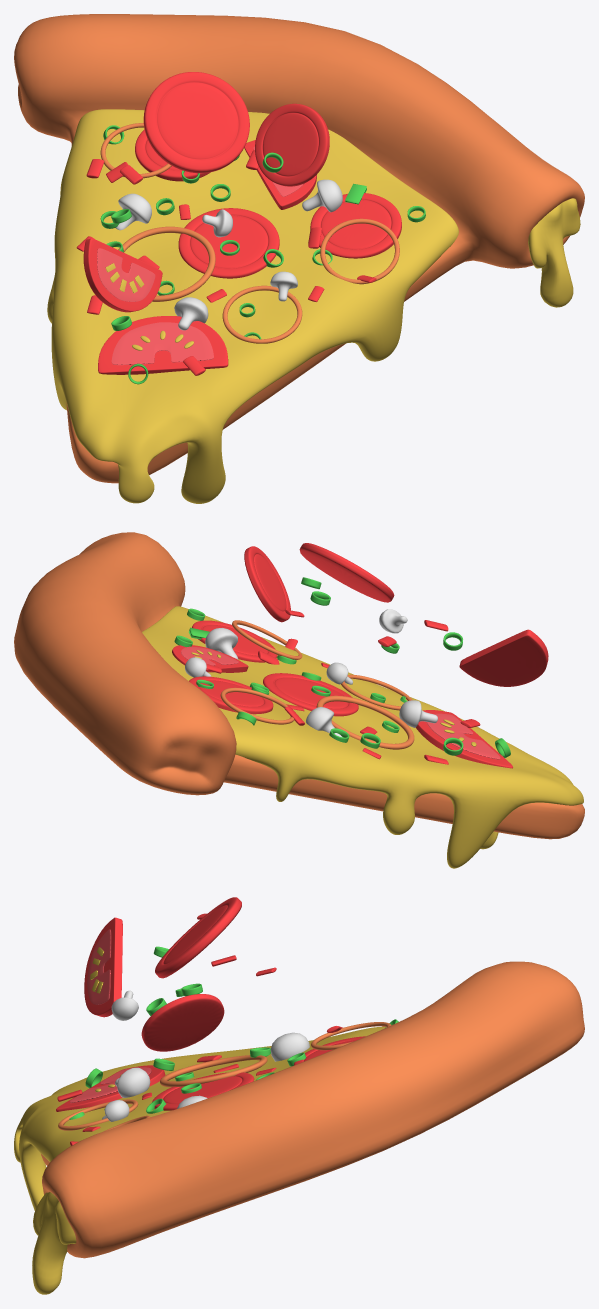
The model's file is pizza-3d-animated-icon-653148928372.glb.
The picture shows the model from 3 angles, top to bottom: view 1: azimuth 30°, elevation 25°; view 2: azimuth 150°, elevation 25°; view 3: azimuth 270°, elevation 25°; orthographic projection. The views are drawn at different scales.
Visible parts, largest first — view 1: Cheese, Cube, Beef, Floating_Meat_2, Sliced_Tomato_1, Floating_Meat_1, Onion_Ring, Floating_Sliced_Tomato, Side_Cheese, Mushroom, Leeks, Pepper (+1 smaller); view 2: Cube, Cheese, Beef, Floating_Sliced_Tomato, Onion_Ring, Mushroom, Leeks, Sliced_Tomato_1, Floating_Meat_2, Floating_Meat_1, Sliced_Tomato_2, Pepper (+1 smaller); view 3: Cube, Cheese, Floating_Meat_1, Side_Cheese, Floating_Sliced_Tomato, Onion_Ring, Floating_Meat_2, Mushroom, Beef, Sliced_Tomato_1, Leeks, Pepper (+1 smaller).
Boxes of the visible parts, left/top/right/bottom form: Cheese: left=47, top=109, right=458, bottom=503; Cube: left=14, top=14, right=584, bottom=483; Beef: left=135, top=129, right=401, bottom=278; Floating_Meat_2: left=143, top=72, right=249, bottom=173; Sliced_Tomato_1: left=98, top=316, right=228, bottom=374; Floating_Meat_1: left=255, top=103, right=329, bottom=186; Onion_Ring: left=100, top=123, right=399, bottom=343; Floating_Sliced_Tomato: left=83, top=238, right=162, bottom=312; Side_Cheese: left=528, top=198, right=580, bottom=307; Mushroom: left=115, top=179, right=342, bottom=330; Leeks: left=100, top=125, right=425, bottom=384; Pepper: left=76, top=150, right=376, bottom=375; Cube: left=14, top=532, right=584, bottom=839; Cheese: left=142, top=606, right=583, bottom=868; Beef: left=189, top=620, right=358, bottom=716; Floating_Sliced_Tomato: left=459, top=629, right=548, bottom=686; Onion_Ring: left=220, top=620, right=414, bottom=749; Mushroom: left=185, top=628, right=437, bottom=737; Leeks: left=174, top=608, right=510, bottom=757; Sliced_Tomato_1: left=416, top=710, right=512, bottom=768; Floating_Meat_2: left=299, top=543, right=394, bottom=602; Floating_Meat_1: left=244, top=546, right=290, bottom=622; Sliced_Tomato_2: left=172, top=645, right=248, bottom=672; Pepper: left=206, top=638, right=480, bottom=764; Cube: left=41, top=961, right=584, bottom=1258; Cheese: left=14, top=1026, right=385, bottom=1210; Floating_Meat_1: left=141, top=994, right=224, bottom=1051; Side_Cheese: left=32, top=1192, right=76, bottom=1294; Floating_Sliced_Tomato: left=84, top=917, right=122, bottom=1017; Onion_Ring: left=58, top=1022, right=391, bottom=1131; Floating_Meat_2: left=155, top=897, right=241, bottom=978; Mushroom: left=102, top=1032, right=309, bottom=1121; Beef: left=152, top=1036, right=365, bottom=1110; Sliced_Tomato_1: left=56, top=1065, right=165, bottom=1111; Leeks: left=69, top=1019, right=398, bottom=1119; Pepper: left=57, top=1026, right=342, bottom=1145.
Bounding box in the file's own units: 5.83 × 3.83 × 5.43.
